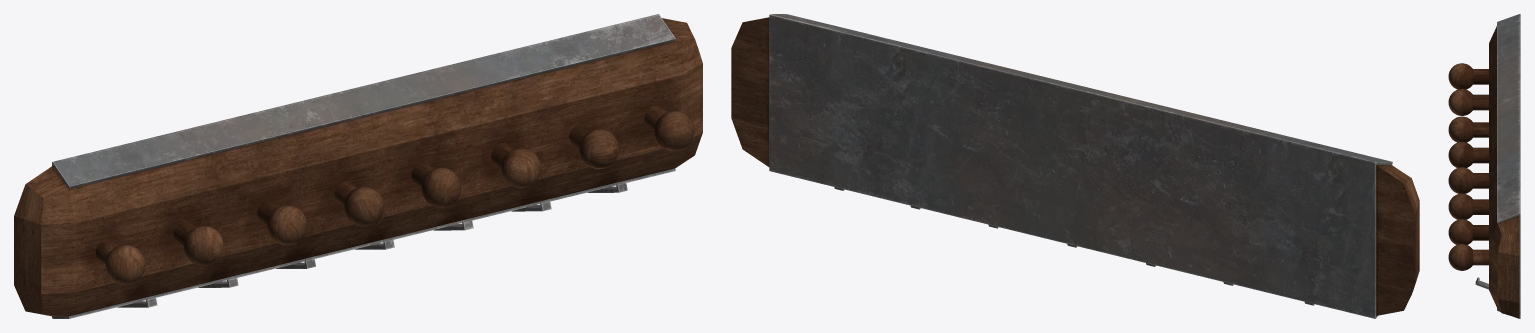
The model's file is coat_rack_hat_kodawowo.glb.
The picture shows the model from 3 angles, left to right: view 1: azimuth 30°, elevation 25°; view 2: azimuth 150°, elevation 25°; view 3: azimuth 270°, elevation 25°; orthographic projection. The views are drawn at different scales.
Parts seen in each view (by area): view 1: Cube__0; view 2: Cube__0; view 3: Cube__0.
Part boxes in pixels (left/top/right/bottom): Cube__0: left=14, top=14, right=702, bottom=318; Cube__0: left=731, top=14, right=1419, bottom=318; Cube__0: left=1448, top=14, right=1520, bottom=318.
Bounding box in the file's own units: 1.14 × 0.2555 × 0.1546.
Materials: 1 (1 with a texture image).
